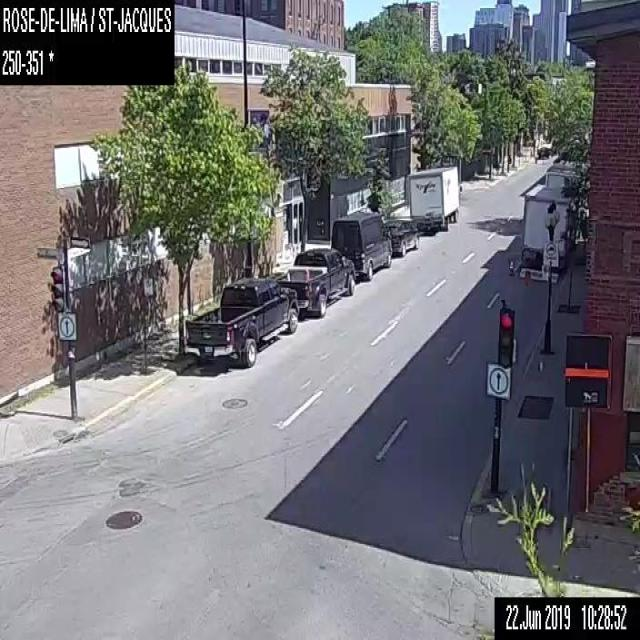construction: (507, 258, 514, 276)
vehicle: (181, 279, 297, 365), (520, 180, 580, 276), (274, 246, 354, 316), (332, 212, 392, 280), (408, 165, 462, 232), (381, 217, 418, 254)
